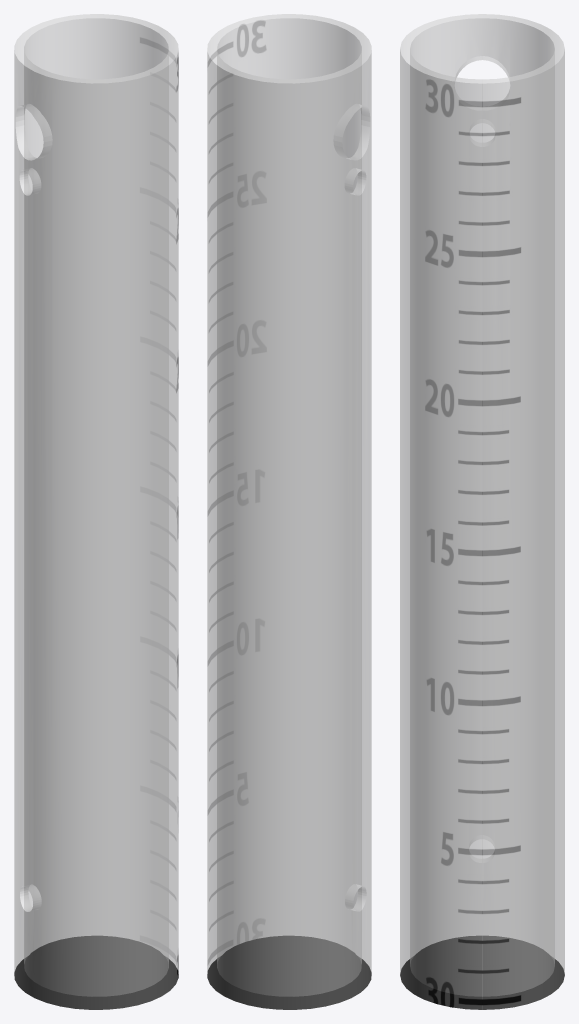
The model's file is valec.obj.
The picture shows the model from 3 angles, left to right: view 1: azimuth 30°, elevation 25°; view 2: azimuth 150°, elevation 25°; view 3: azimuth 270°, elevation 25°; orthographic projection.
Visible parts, largest first — view 1: Cylinder.083_Cylinder.107; view 2: Cylinder.083_Cylinder.107; view 3: Cylinder.083_Cylinder.107.
Boxes of the visible parts, left/top/right/bottom form: Cylinder.083_Cylinder.107: left=14, top=14, right=178, bottom=1009; Cylinder.083_Cylinder.107: left=207, top=14, right=371, bottom=1009; Cylinder.083_Cylinder.107: left=400, top=14, right=564, bottom=1009.
Bounding box in the file's own units: 0.5 × 3.1 × 0.5.
